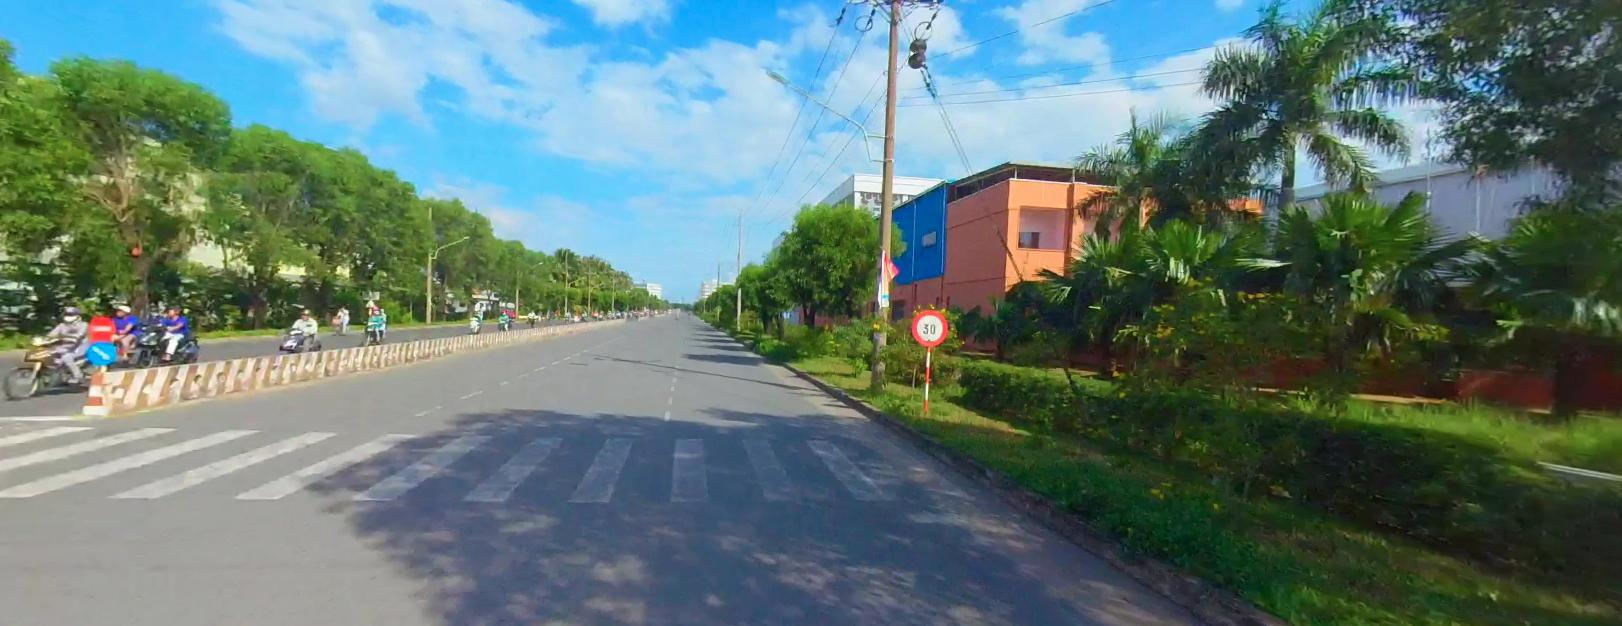Cam nguoc chieu: (88, 314, 114, 339)
Gioi han toc do: (911, 308, 947, 344)
Hieu lenh: (86, 340, 116, 363)
